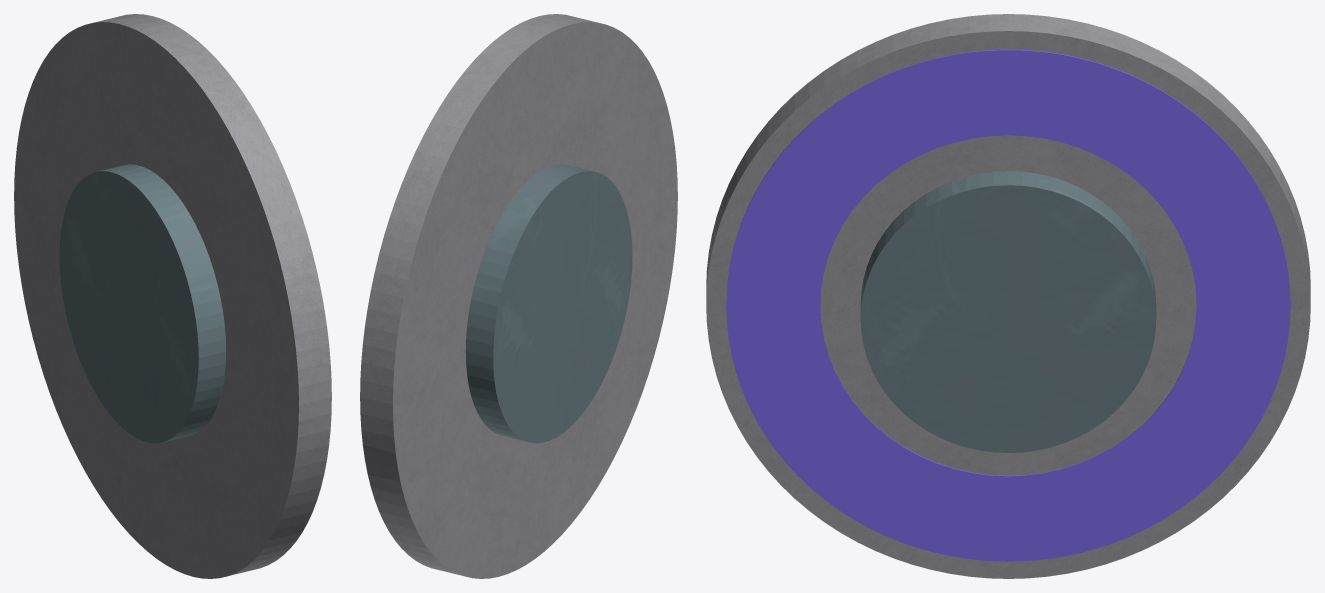
The model's file is brake_disc_overheated.glb.
The picture shows the model from 3 angles, left to right: view 1: azimuth 30°, elevation 25°; view 2: azimuth 150°, elevation 25°; view 3: azimuth 270°, elevation 25°; orthographic projection. The views are drawn at different scales.
Parts seen in each view (by area): view 1: brake_disc_overheated; view 2: brake_disc_overheated; view 3: brake_disc_overheated.
Part boxes in pixels (box(x1,y1,x2,y2)): brake_disc_overheated: box(14, 14, 331, 578); brake_disc_overheated: box(360, 14, 677, 578); brake_disc_overheated: box(706, 14, 1310, 578).
Bounding box in the file's own units: 0.16 × 0.9 × 0.9.
3 materials, 2 textured.
